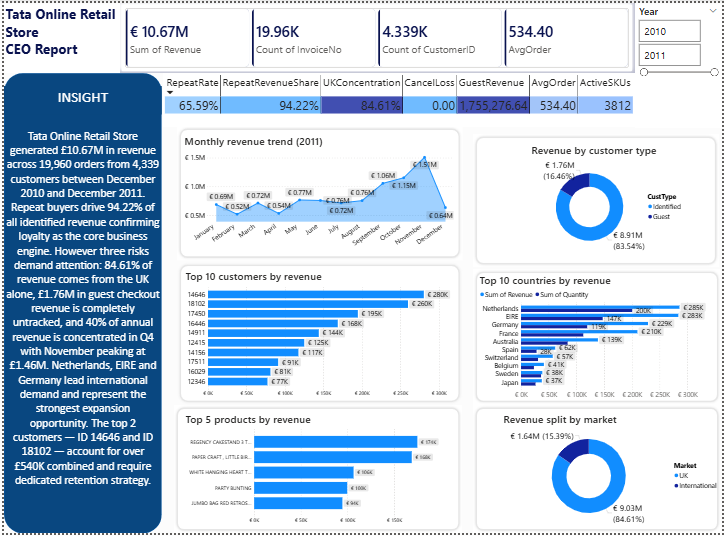

This screenshot's page, from the dashboard's own definition file:
{"tool":"powerbi","page":{"name":"Page 1","canvas":[2300,1700],"ordinal":0},"visuals":[{"type":"shape","box":[0,223.4,506.4,1476.6],"z":0},{"type":"shape","box":[1504.4,1288.9,795.6,411.1],"z":1000},{"type":"shape","box":[546.3,1288.9,924.4,411.1],"z":2000},{"type":"shape","box":[1504.4,853.3,795.6,435.6],"z":3000},{"type":"shape","box":[1504.4,420,788.9,426.7],"z":4000},{"type":"shape","box":[555.2,395.6,915.6,431.1],"z":5000},{"type":"areaChart","title":"Monthly revenue trend (2011)","fields":{"Category":["Online_Retail.InvoiceDate.Variation.Date Hierarchy.Month"],"Y":["Sum(Online_Retail.Revenue)"]},"box":[575.2,420,873.3,382.2],"z":6000},{"type":"clusteredBarChart","title":"Top 10 countries by revenue","fields":{"Category":["Online_Retail.Country"],"Y":["Sum(Online_Retail.Revenue)","Sum(Online_Retail.Quantity)"]},"box":[1520,864.4,773.3,413.3],"z":7000},{"type":"donutChart","title":"Revenue split by market","fields":{"Y":["Sum(Online_Retail.Revenue)"],"Category":["Online_Retail.Market"]},"box":[1597.8,1311.1,702.2,366.7],"z":8000},{"type":"donutChart","title":"Revenue by customer type","fields":{"Y":["Sum(Online_Retail.Revenue)"],"Category":["Online_Retail.CustType"]},"box":[1686.7,448.9,497.8,366.7],"z":9000},{"type":"tableEx","fields":{"Values":["Online_Retail.RepeatRate","Online_Retail.RepeatRevenueShare","Online_Retail.UKConcentration","Online_Retail.CancelLoss","Online_Retail.GuestRevenue","Online_Retail.AvgOrder","Online_Retail.ActiveSKUs"]},"box":[508.9,224.4,1517.8,173.3],"z":10000},{"type":"textbox","box":[0,0,372.1,224.5],"z":11000},{"type":"cardVisual","fields":{"Data":["Sum(Online_Retail.Revenue)","Count(Online_Retail.InvoiceNo)","Count(Online_Retail.CustomerID)","Online_Retail.AvgOrder"]},"box":[372.1,0,1651.9,224.5],"z":12000},{"type":"slicer","fields":{"Values":["Online_Retail.Year"]},"box":[2024,0,275.8,397.7],"z":13000},{"type":"shape","box":[555.2,831.1,915.6,457.8],"z":14000},{"type":"clusteredBarChart","title":"Top 10 customers by revenue","fields":{"Category":["Online_Retail.CustomerID"],"Y":["Sum(Online_Retail.Revenue)"]},"box":[577.4,853.3,893.3,420],"z":15000},{"type":"barChart","title":"Top 5 products by revenue","fields":{"Category":["Online_Retail.Description"],"Y":["Sum(Online_Retail.Revenue)"]},"box":[575.8,1312.1,848.5,366.7],"z":16000},{"type":"textbox","box":[0,267.6,505.9,91.2],"z":17000},{"type":"textbox","box":[0,397,506.1,1281.8],"z":18000}]}

Visuals, with their boxes in screenshot pixels (x1, y1, x2, y2), scaled from the page's 2300x1700 canvas onto the 724x536 screenshot:
shape: <box>0,70,159,535</box>
shape: <box>474,406,723,535</box>
shape: <box>172,406,463,535</box>
shape: <box>474,269,723,406</box>
shape: <box>474,132,722,267</box>
shape: <box>175,125,463,261</box>
"Monthly revenue trend (2011)" areaChart: <box>181,132,456,253</box>
"Top 10 countries by revenue" clusteredBarChart: <box>478,273,722,403</box>
"Revenue split by market" donutChart: <box>503,413,723,529</box>
"Revenue by customer type" donutChart: <box>531,142,688,257</box>
tableEx - Online_Retail.RepeatRate x Online_Retail.RepeatRevenueShare: <box>160,71,638,125</box>
textbox: <box>0,0,117,71</box>
cardVisual - Sum(Online_Retail.Revenue) x Count(Online_Retail.InvoiceNo): <box>117,0,637,71</box>
slicer - Online_Retail.Year: <box>637,0,723,125</box>
shape: <box>175,262,463,406</box>
"Top 10 customers by revenue" clusteredBarChart: <box>182,269,463,401</box>
"Top 5 products by revenue" barChart: <box>181,414,448,529</box>
textbox: <box>0,84,159,113</box>
textbox: <box>0,125,159,529</box>
